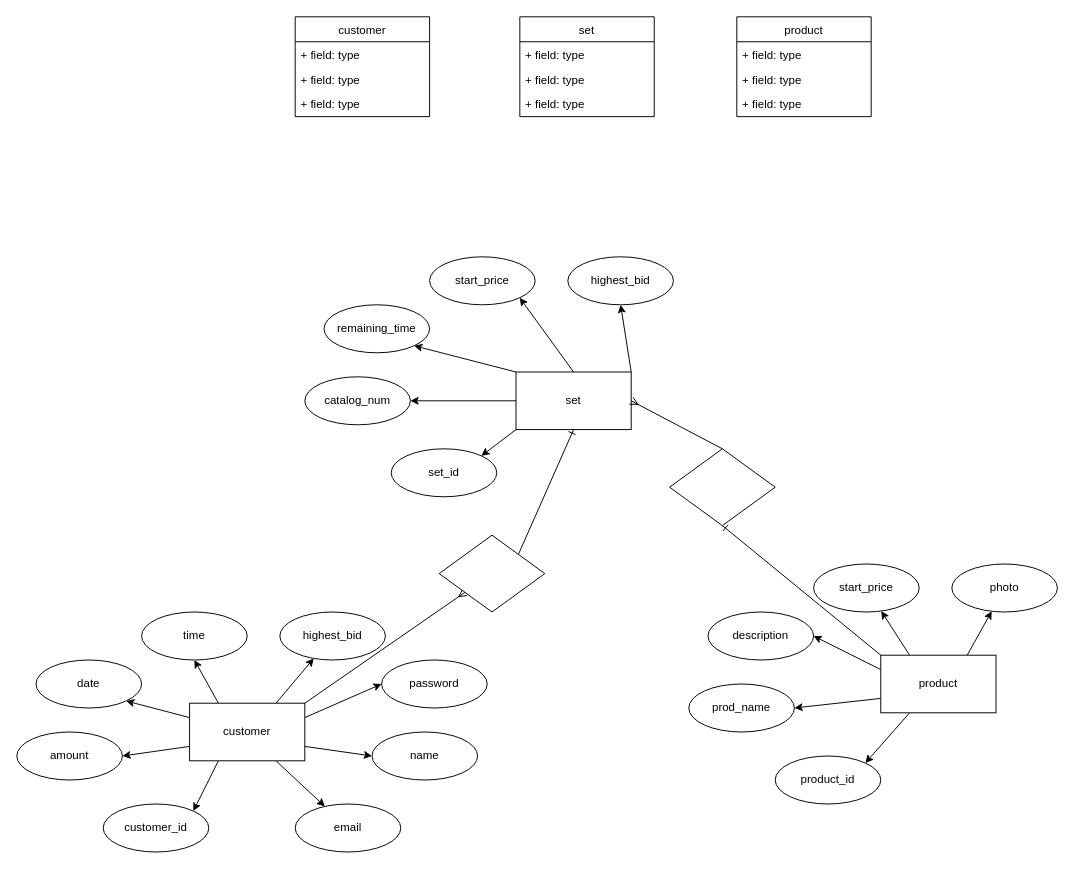
Image size: 1074x869. Some labels were removed from this diagram. Each missing label, with the centre of its shape:
bids on: the point at 491,573
contains of: the point at 722,487
